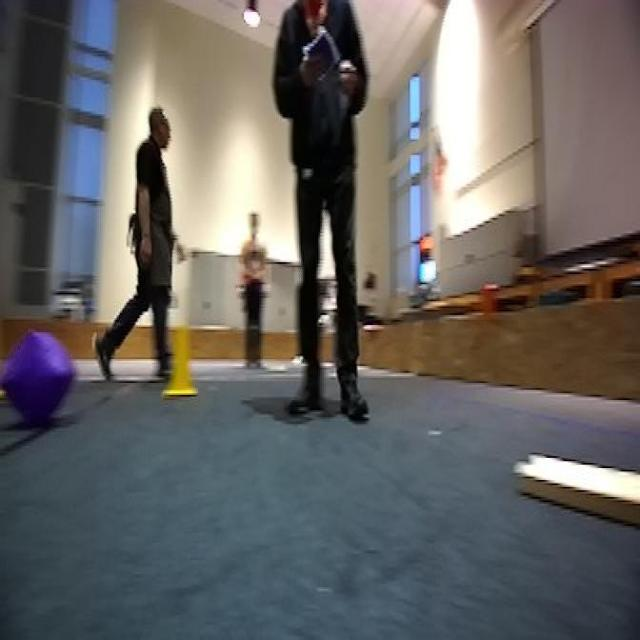frc_cone: (167, 322, 197, 400)
frc_cube: (12, 339, 66, 432)
